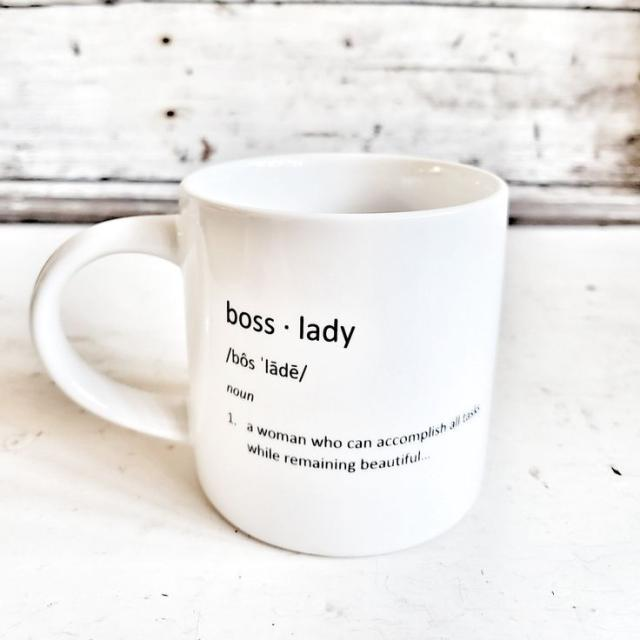glass cup: (30, 153, 509, 557)
